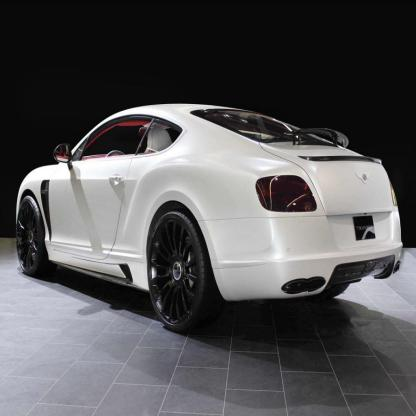Vehicle: (16, 104, 404, 336)
